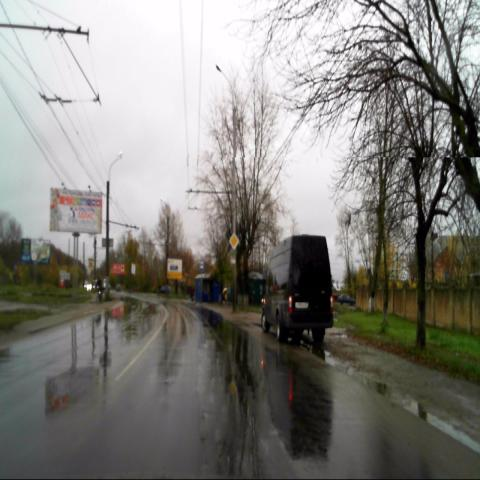2_1: (228, 232, 240, 250)
